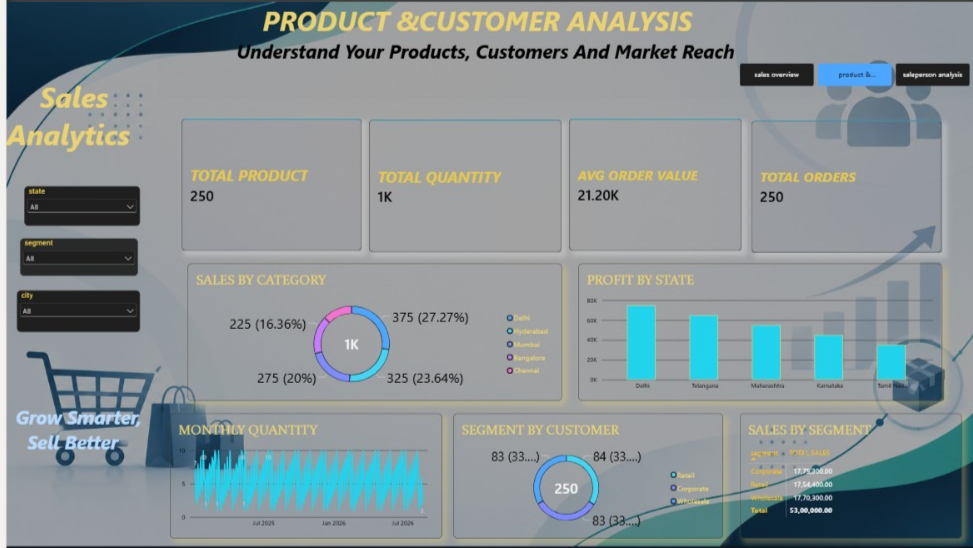

The dashboard page shown, as its layout file describes it:
{"tool":"powerbi","page":{"name":"product & customer analysis","canvas":[1920,1080],"ordinal":1},"visuals":[{"type":"textbox","box":[0,10.3,300.5,1060],"z":0},{"type":"textbox","box":[300.5,0,1619.9,191.4],"z":1},{"type":"cardVisual","fields":{"Data":["sales_analysis customers.TOTAL PRODUCT"]},"box":[345.8,230.5,356.1,261.4],"z":2},{"type":"cardVisual","fields":{"Data":["sales_analysis customers.TOTAL ORDERS"]},"box":[1472.3,234.6,376.7,261.4],"z":3},{"type":"cardVisual","fields":{"Data":["sales_analysis customers.TOTAL QUANTITY"]},"box":[716.3,232.6,380,262.2],"z":4},{"type":"cardVisual","fields":{"Data":["sales_analysis customers.AVG ORDER VALUE"]},"box":[1111.5,230.5,341.7,261.4],"z":5},{"type":"donutChart","title":"SALES BY CATEGORY","fields":{"Category":["sales_analysis customers.city"],"Y":["sales_analysis customers.TOTAL QUANTITY"]},"box":[358.1,516.6,738.9,271.7],"z":7},{"type":"lineClusteredColumnComboChart","title":"PROFIT BY STATE","fields":{"Category":["sales_analysis customers.state"],"Y":["sales_analysis customers.TOTAL PROFIT"]},"box":[1130,516.6,718.4,271.7],"z":9},{"type":"pivotTable","title":"SALES BY SEGMENT","fields":{"Rows":["sales_analysis customers.segment"],"Values":["sales_analysis customers.TOTAL SALES"]},"box":[1449.1,813,438.4,247],"z":10},{"type":"donutChart","title":"SEGMENT BY  CUSTOMER ","fields":{"Category":["sales_analysis customers.segment"],"Y":["sales_analysis customers.TOTAL CUSTOMER"]},"box":[883,813,533.1,247],"z":11},{"type":"lineChart","title":"MONTHLY QUANTITY","fields":{"Category":["sales_analysis customers.sales_analysis.orders.order_date.Variation.Date Hierarchy.Year","sales_analysis customers.sales_analysis.orders.order_date.Variation.Date Hierarchy.Quarter","sales_analysis customers.sales_analysis.orders.order_date.Variation.Date Hierarchy.Month","sales_analysis customers.sales_analysis.orders.order_date.Variation.Date Hierarchy.Day"],"Y":["sales_analysis customers.TOTAL QUANTITY"]},"box":[323.2,813,537.2,247],"z":12},{"type":"slicer","fields":{"Values":["sales_analysis customers.state"]},"box":[35,364.3,228.5,78.2],"z":15},{"type":"slicer","fields":{"Values":["sales_analysis customers.city"]},"box":[20.6,570.2,242.9,82.3],"z":16},{"type":"slicer","fields":{"Values":["sales_analysis customers.segment"]},"box":[26.8,467.2,232.6,74.1],"z":17},{"type":"pageNavigator","box":[1449.1,121.4,454.9,45.3],"z":24}]}

Visuals, with their boxes in screenshot pixels (x1, y1, x2, y2), scaled from the page's 1920x1080 canvas onto the 973x548 screenshot:
textbox: BBox(0, 5, 152, 543)
textbox: BBox(152, 0, 972, 97)
cardVisual - sales_analysis customers.TOTAL PRODUCT: BBox(175, 117, 356, 250)
cardVisual - sales_analysis customers.TOTAL ORDERS: BBox(746, 119, 937, 252)
cardVisual - sales_analysis customers.TOTAL QUANTITY: BBox(363, 118, 556, 251)
cardVisual - sales_analysis customers.AVG ORDER VALUE: BBox(563, 117, 736, 250)
"SALES BY CATEGORY" donutChart: BBox(181, 262, 556, 400)
"PROFIT BY STATE" lineClusteredColumnComboChart: BBox(573, 262, 937, 400)
"SALES BY SEGMENT" pivotTable: BBox(734, 413, 957, 538)
"SEGMENT BY  CUSTOMER " donutChart: BBox(447, 413, 718, 538)
"MONTHLY QUANTITY" lineChart: BBox(164, 413, 436, 538)
slicer - sales_analysis customers.state: BBox(18, 185, 134, 225)
slicer - sales_analysis customers.city: BBox(10, 289, 134, 331)
slicer - sales_analysis customers.segment: BBox(14, 237, 131, 275)
pageNavigator: BBox(734, 62, 965, 85)
